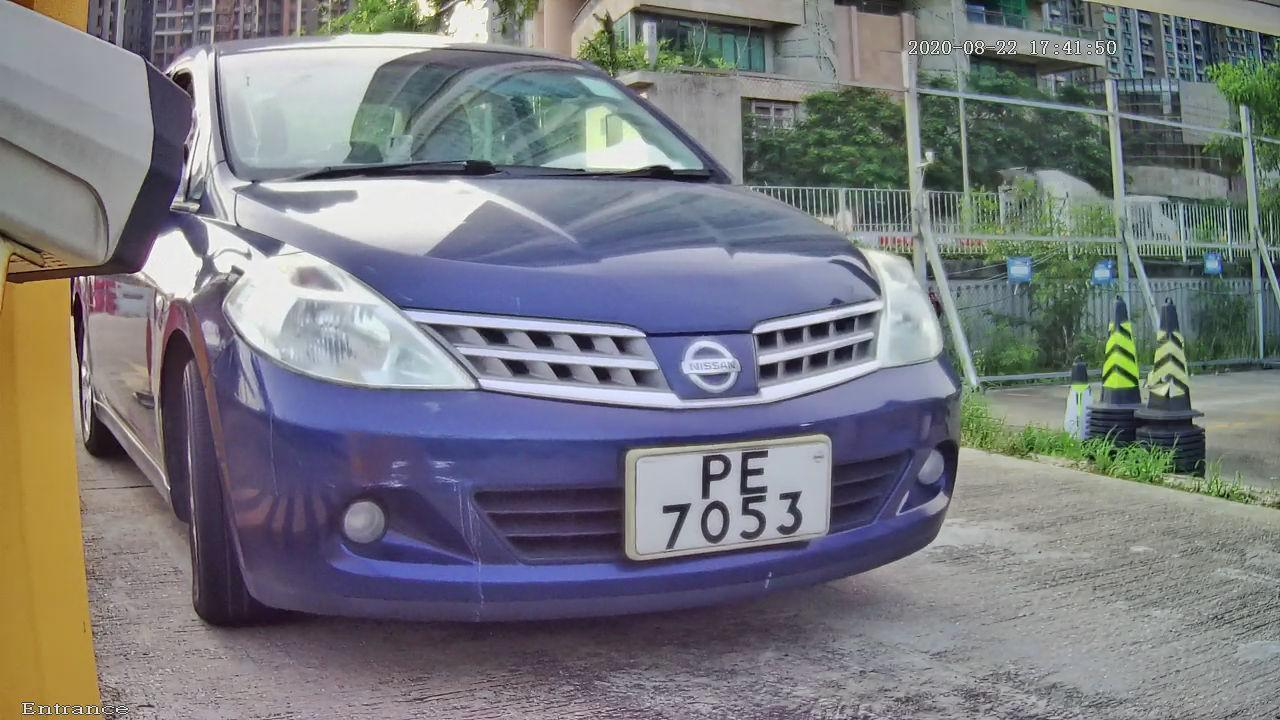Car: (52, 7, 1075, 672)
License Plate: (612, 428, 841, 573)
